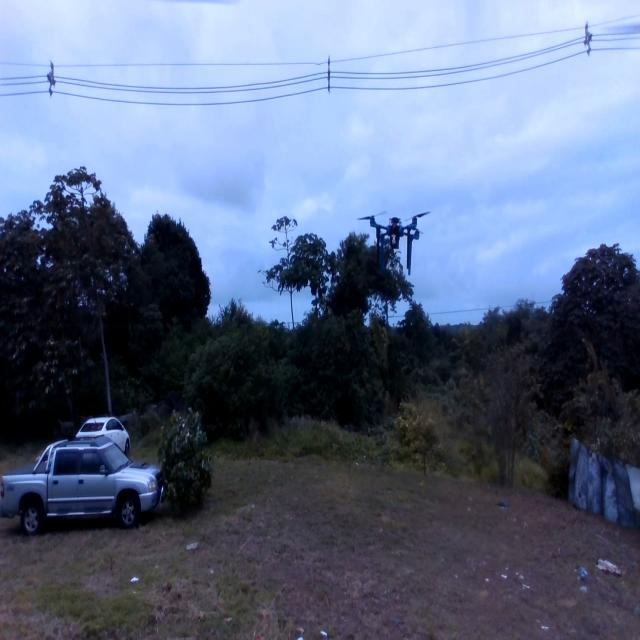-uav-: (352, 193, 438, 286)
